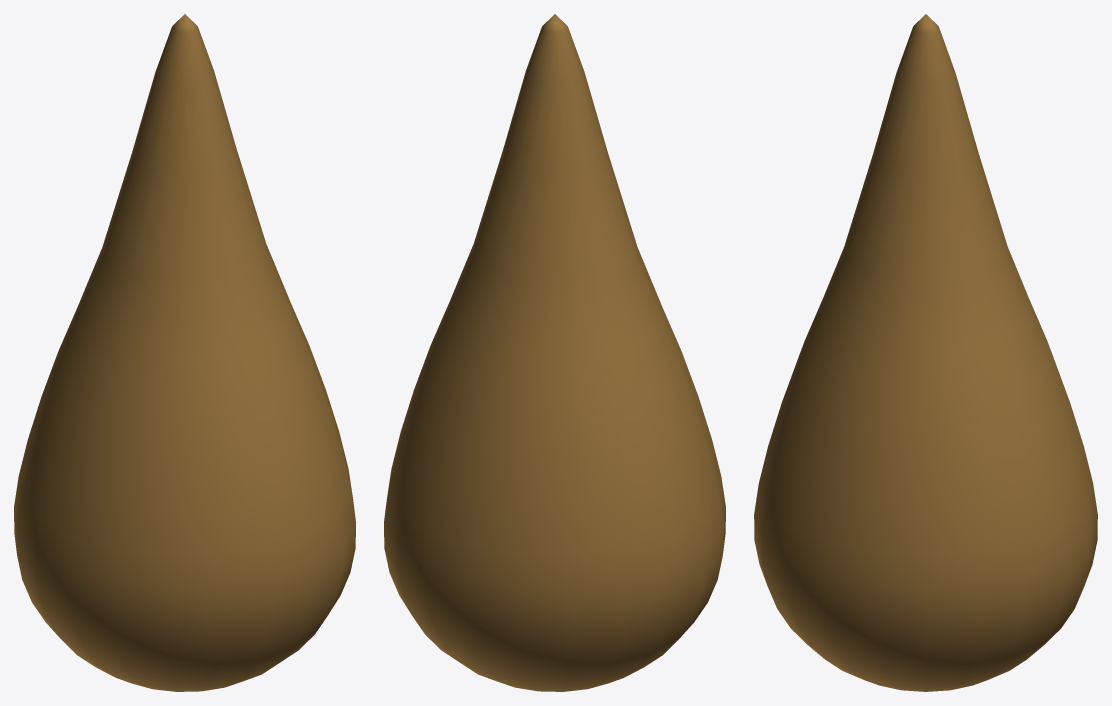
File: Sap.fbx
The picture shows the model from 3 angles, left to right: view 1: azimuth 30°, elevation 25°; view 2: azimuth 150°, elevation 25°; view 3: azimuth 270°, elevation 25°; orthographic projection.
Parts seen in each view (by area): view 1: pSphere2; view 2: pSphere2; view 3: pSphere2.
Part boxes in pixels (x1=…): pSphere2: x1=14, y1=14, x2=355, y2=691; pSphere2: x1=384, y1=14, x2=725, y2=691; pSphere2: x1=754, y1=14, x2=1097, y2=691.
Bounding box in the file's own units: 1.96 × 4.16 × 1.96.
